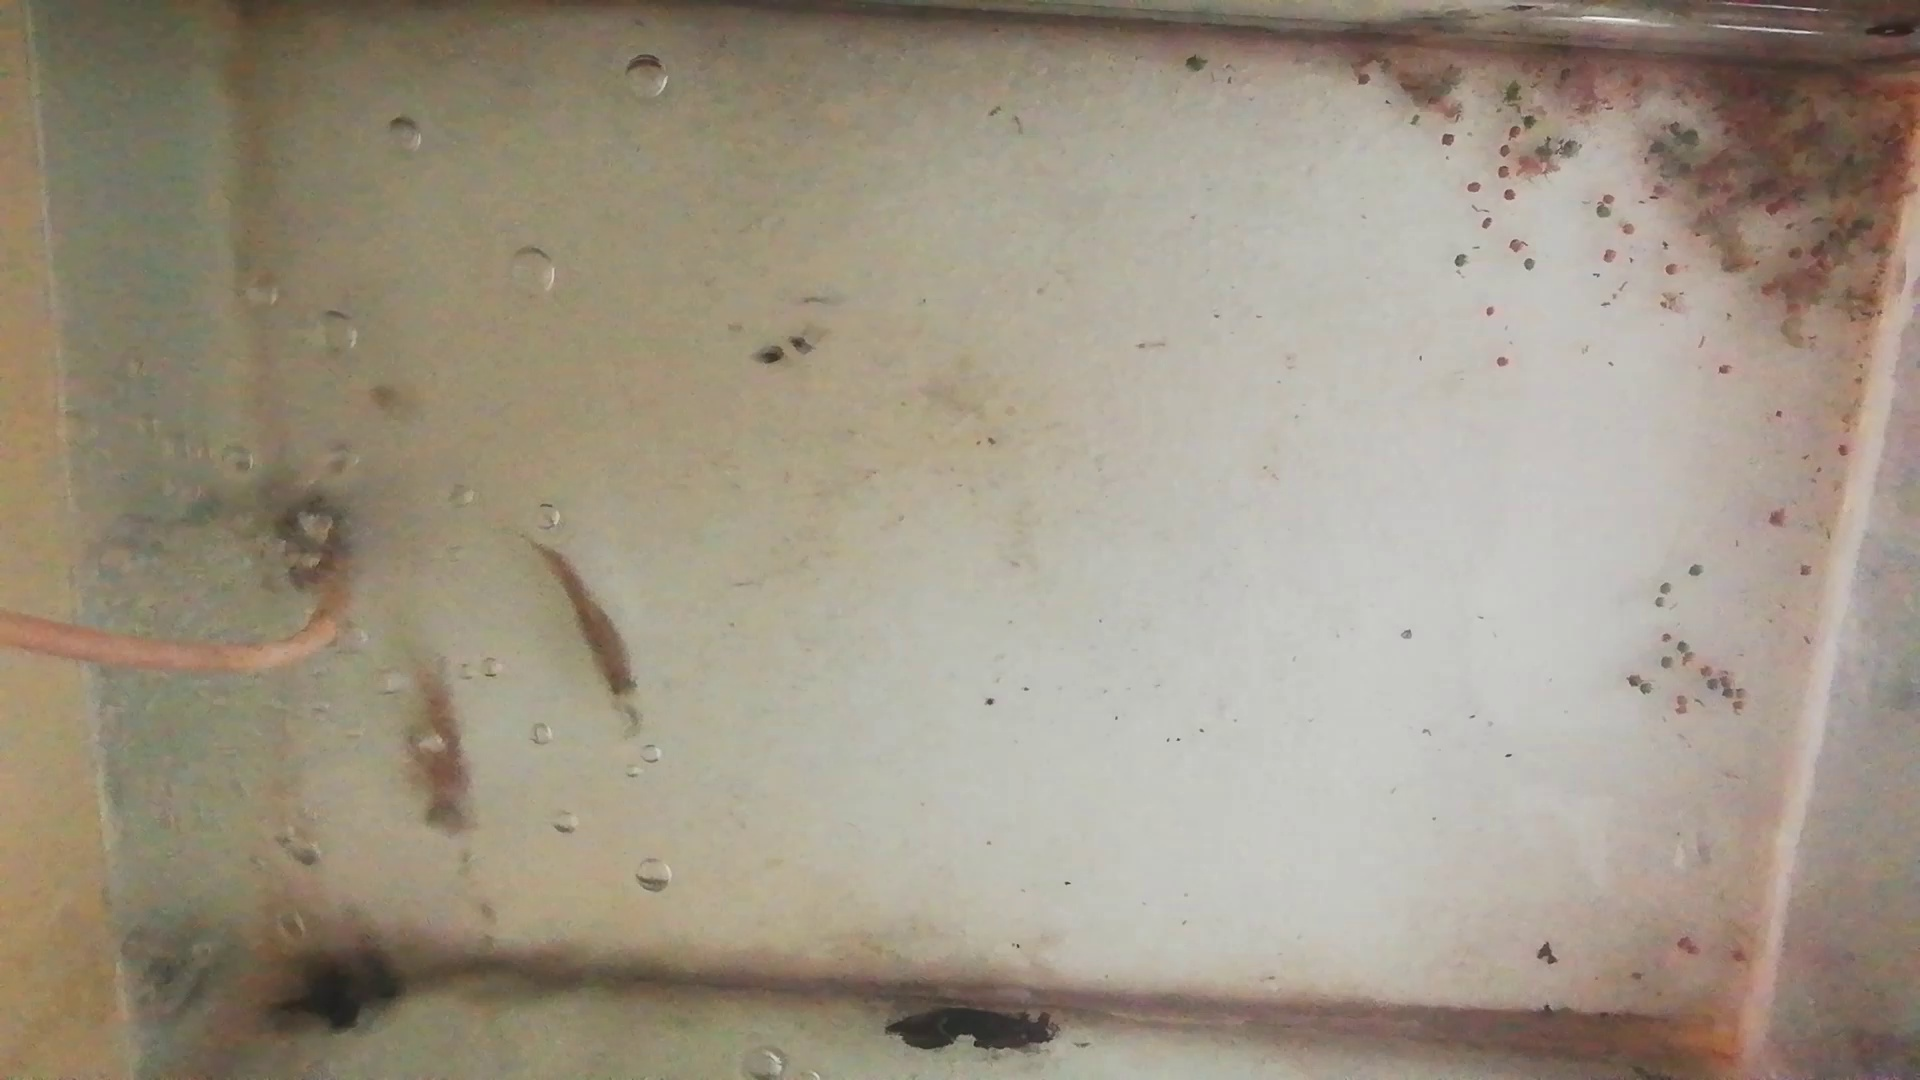fish: (530, 541, 640, 703), (411, 661, 477, 841)
